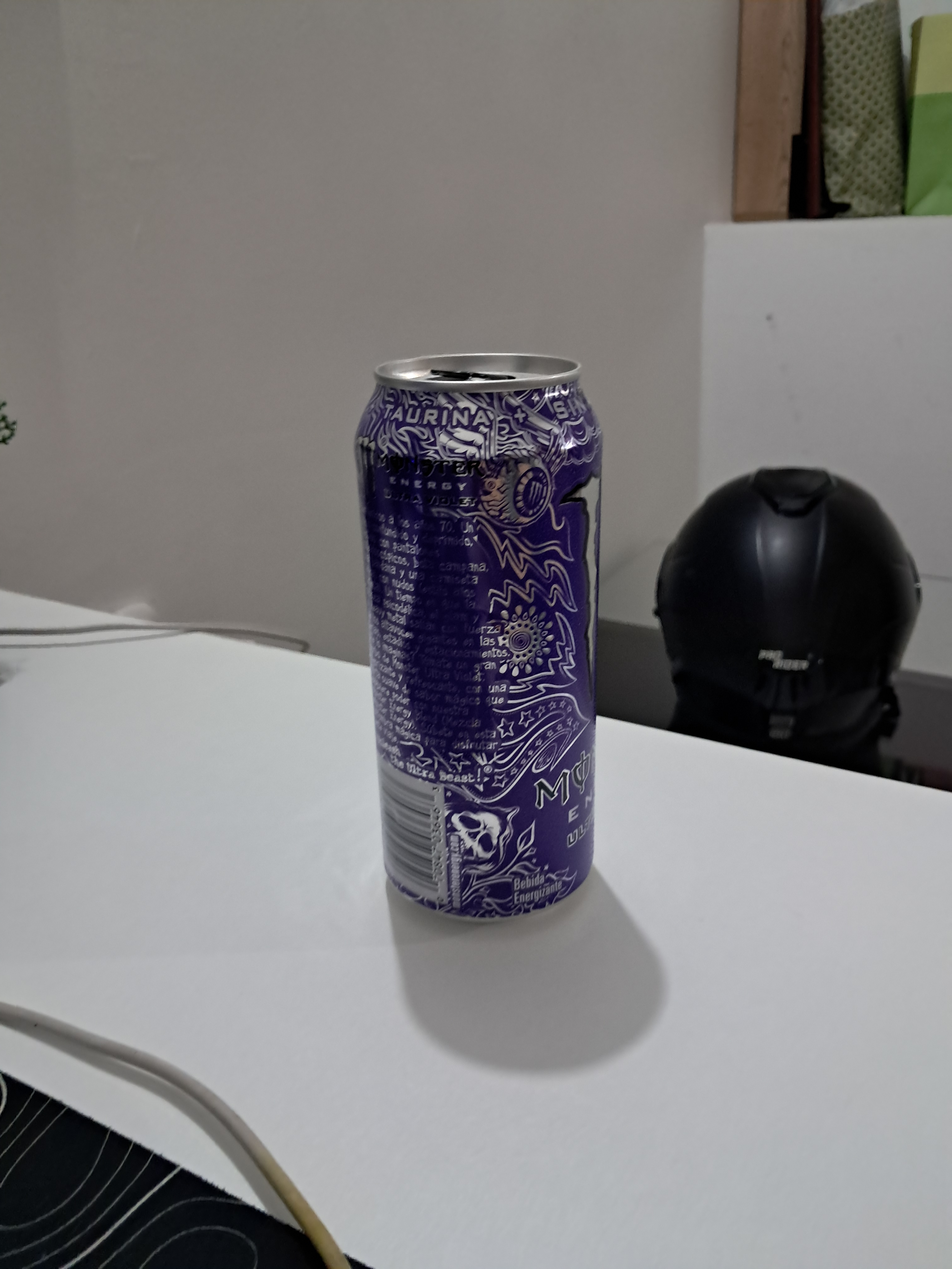energy_drink: (356, 357, 601, 919)
